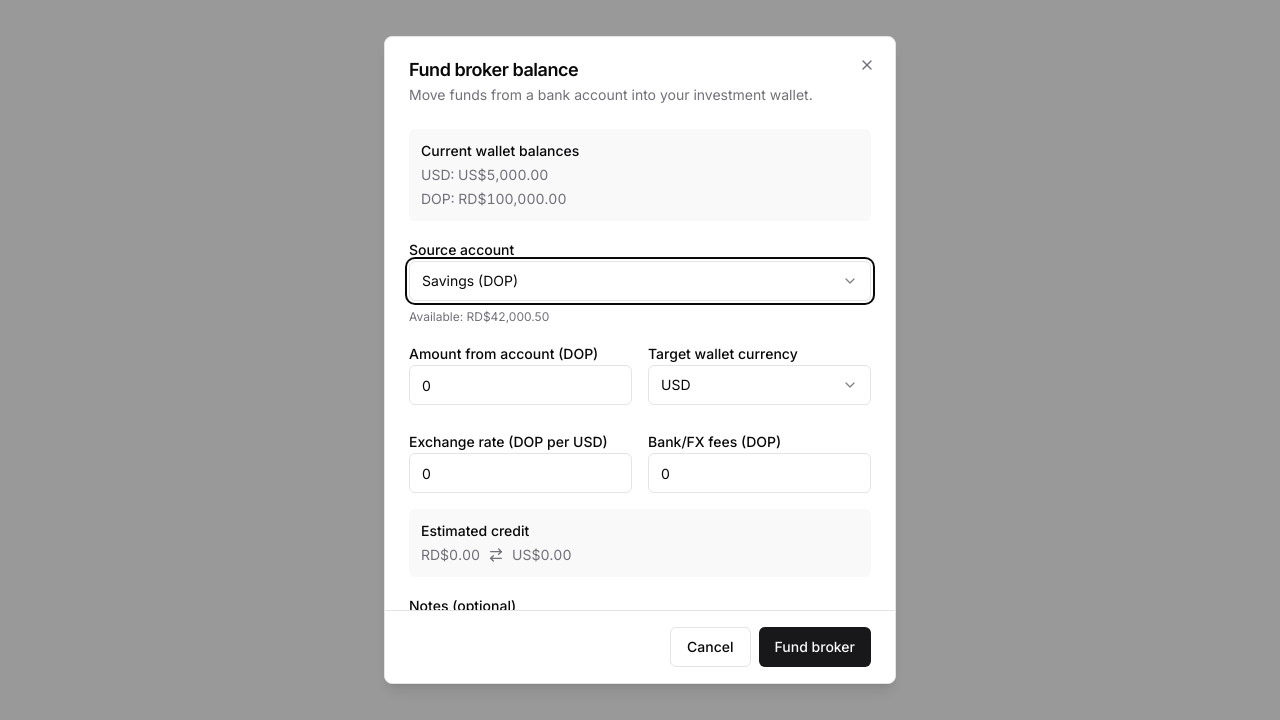
InvestmentFundingModal › shows the translated INSUFFICIENT_FUNDS message when the account cannot cover the transfer
Replace the text in the field labelled "Amount from account (DOP)" with "1000" at (520,385), box [409,365,632,405]
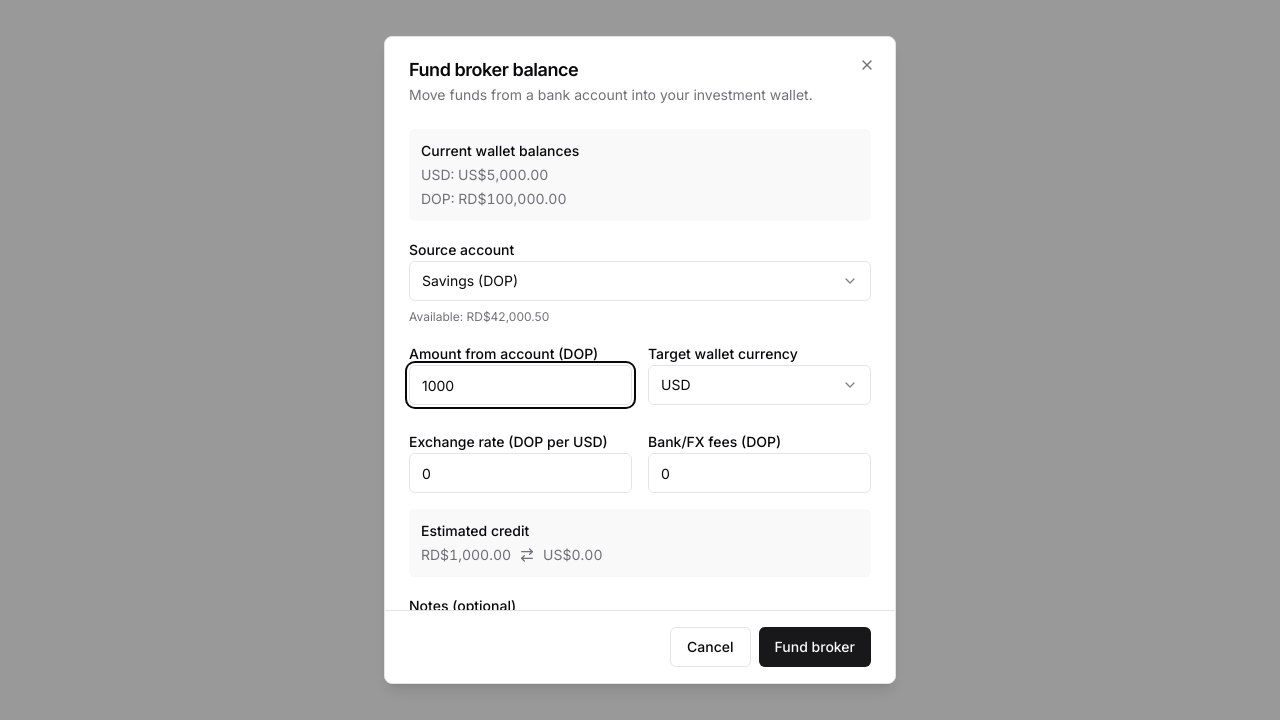
Replace the text in the field labelled "Exchange rate (DOP per USD)" with "58" at (520,473), box [409,453,632,493]
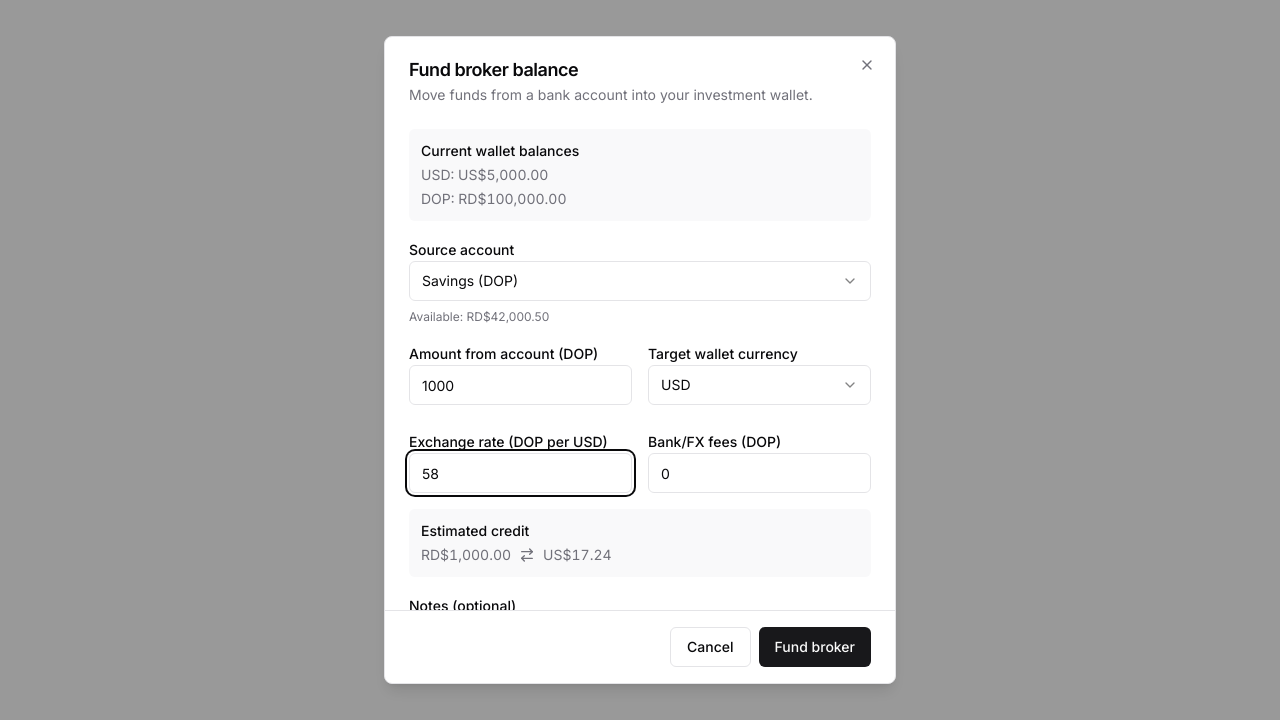
Click the button "Fund broker" at (815,647), box [759,627,871,667]
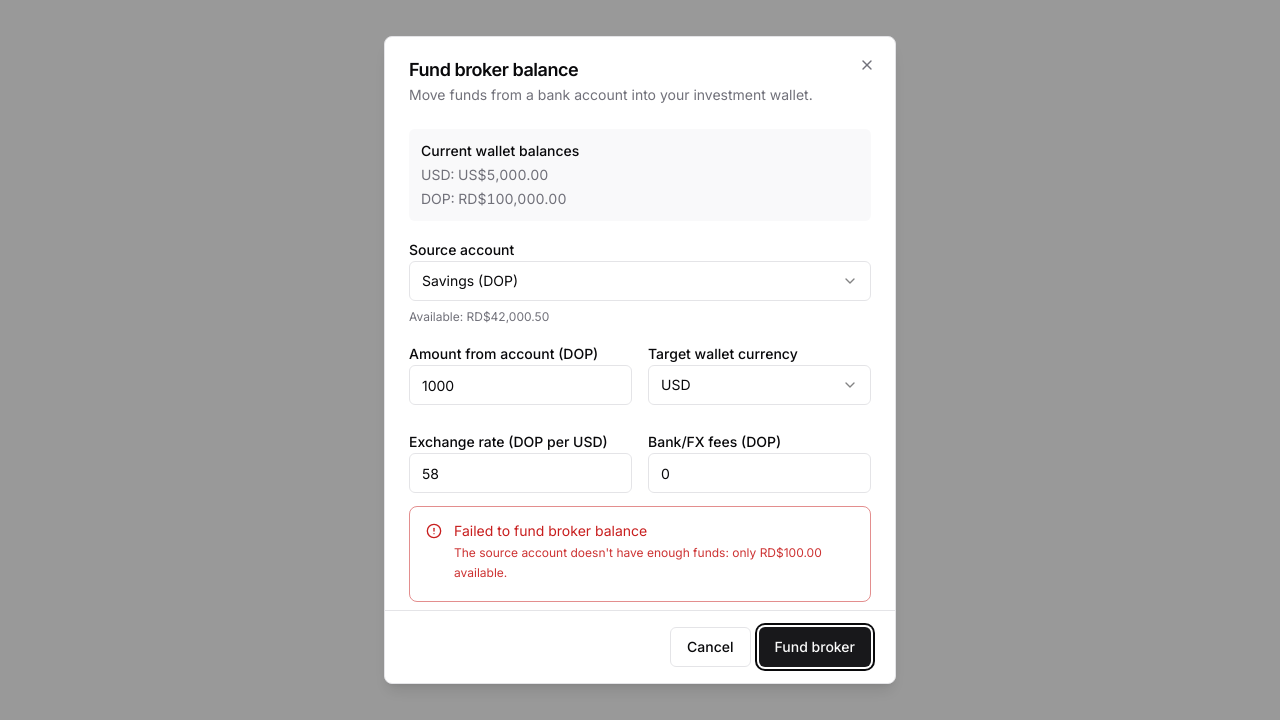
Now the text "The source account doesn't have enough funds: only RD$100.00 available." is shown, box [454,543,854,582]
